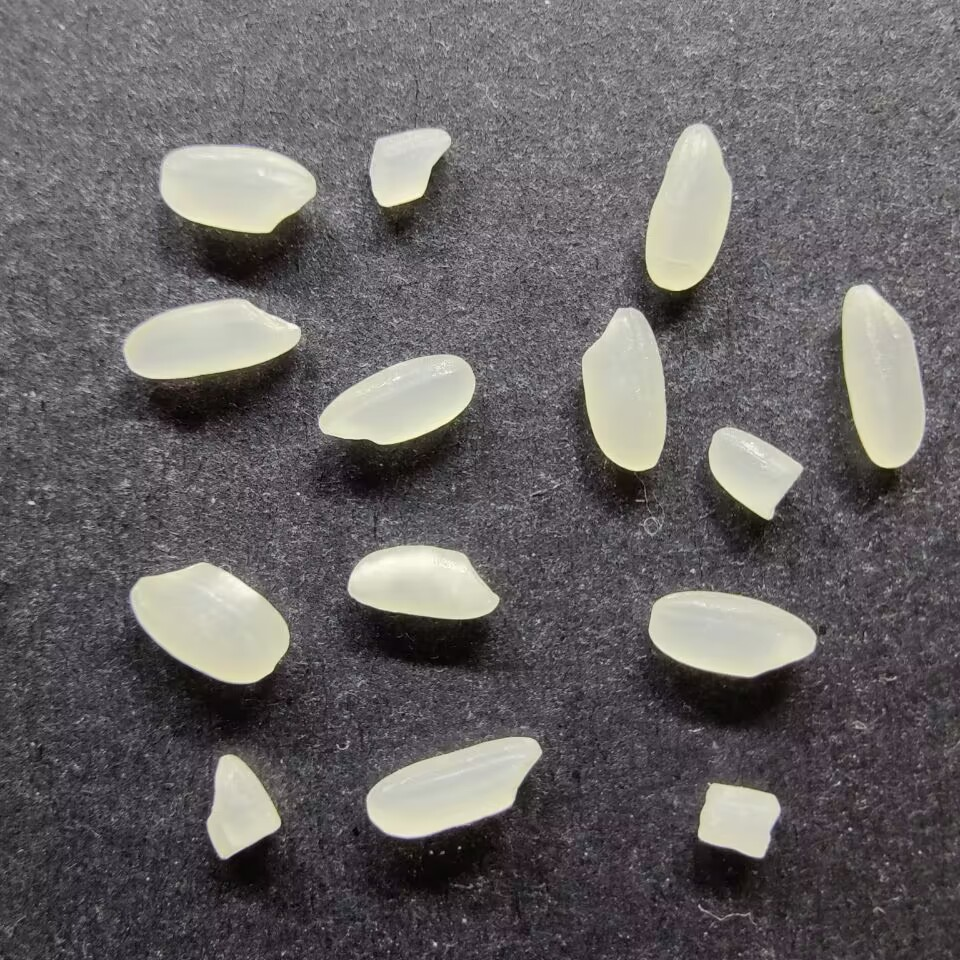broken: (708, 423, 805, 523), (201, 752, 283, 861), (695, 775, 783, 864), (367, 126, 453, 209)
rice: (127, 559, 292, 686), (363, 734, 543, 840), (839, 283, 925, 470), (646, 588, 818, 680), (642, 120, 733, 292), (121, 295, 301, 381), (316, 351, 476, 446), (578, 305, 669, 472), (157, 141, 318, 235), (345, 543, 500, 622)
